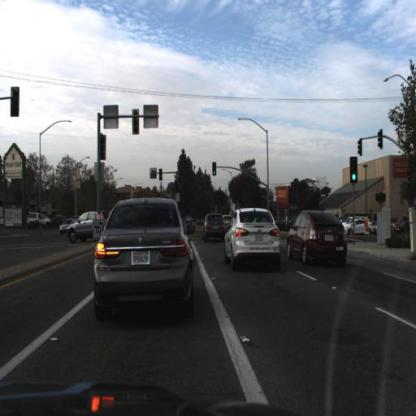car: (93, 202, 189, 319), (221, 198, 282, 275), (286, 200, 347, 271), (67, 211, 113, 247), (200, 210, 231, 250), (68, 211, 105, 241), (344, 216, 376, 239), (257, 205, 276, 238), (222, 210, 237, 237), (28, 212, 53, 228), (88, 214, 99, 232), (183, 211, 194, 229), (196, 214, 207, 227)
pedestrian: (365, 216, 371, 238)
trafficLight: (12, 86, 21, 118), (132, 110, 142, 135), (377, 129, 386, 155), (100, 137, 108, 160), (356, 140, 364, 158), (159, 168, 164, 182)
trafficLight-Green: (212, 161, 220, 179), (351, 157, 357, 181), (159, 170, 166, 184), (174, 181, 181, 194), (212, 163, 217, 177), (269, 192, 274, 205)
